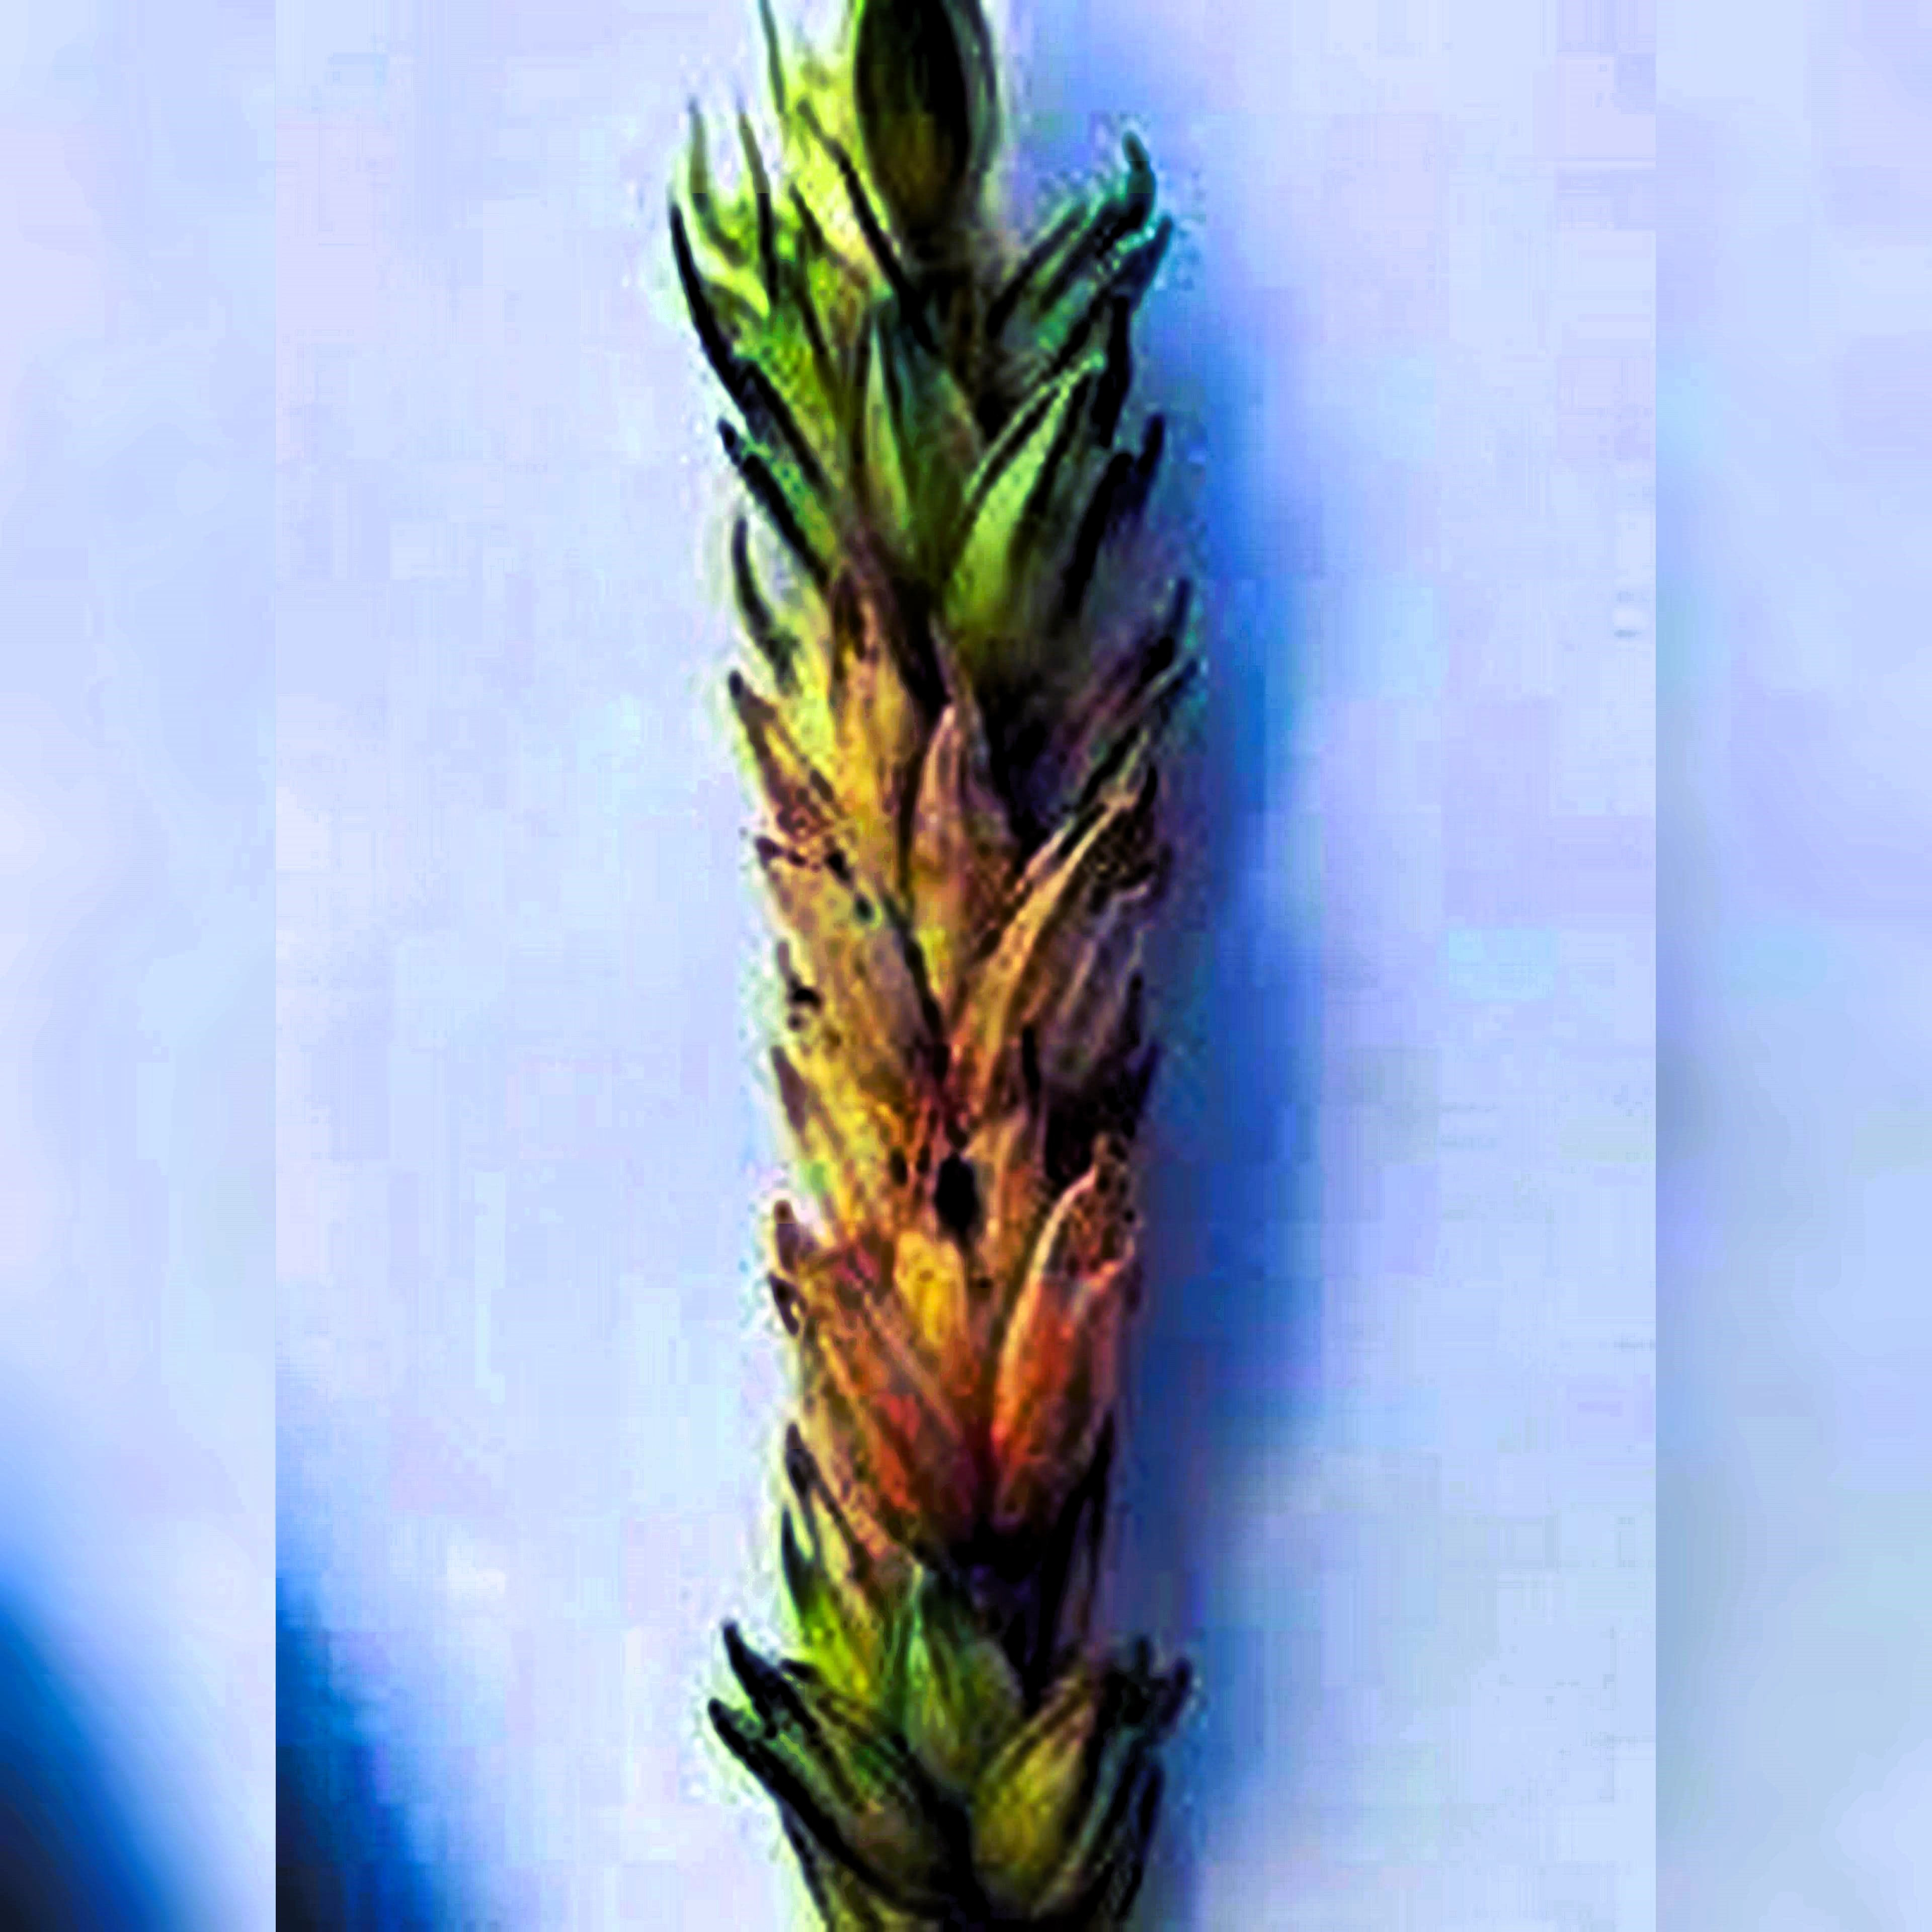Wheat scab: (610, 41, 1235, 1845)
